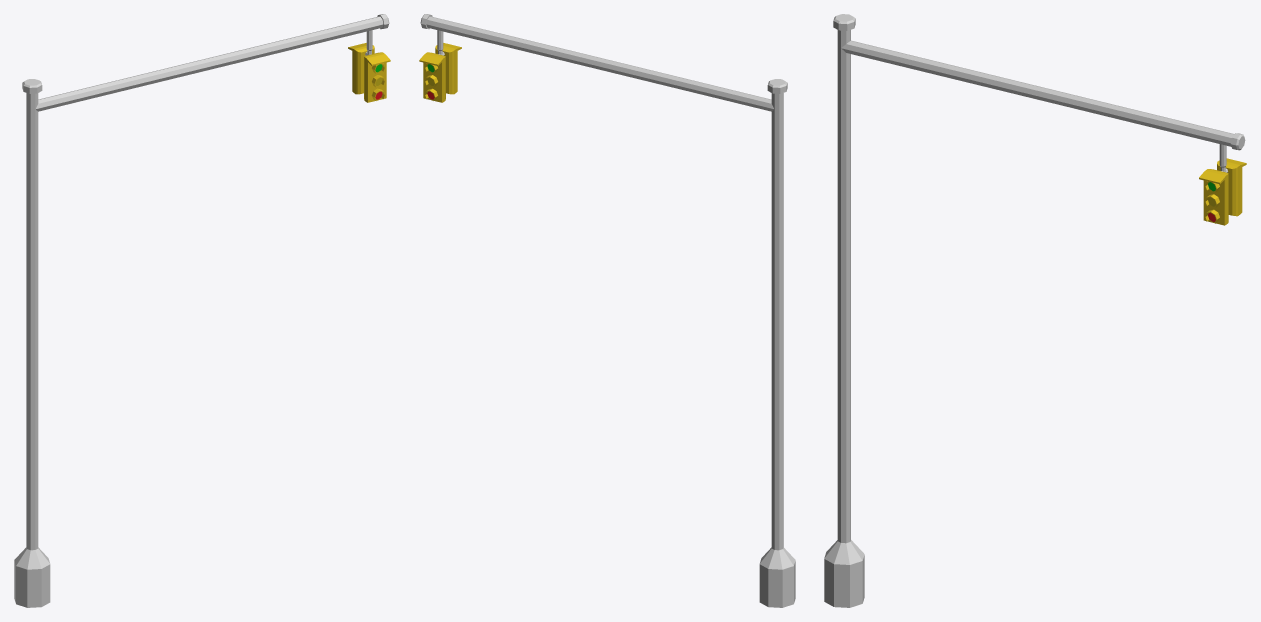
The model's file is LampPost.fbx.
3 renders of one model, left to right at view 1: azimuth 30°, elevation 25°; view 2: azimuth 150°, elevation 25°; view 3: azimuth 330°, elevation 25°, orthographic. The views are drawn at different scales.
Parts seen in each view (by area): view 1: Circle, Circle.001; view 2: Circle, Circle.001; view 3: Circle, Circle.001.
Boxes of the visible parts, x1,y1,x2,y2 form: Circle: [14, 14, 389, 607]; Circle.001: [348, 43, 390, 102]; Circle: [420, 14, 795, 607]; Circle.001: [419, 43, 461, 102]; Circle: [824, 14, 1245, 607]; Circle.001: [1199, 158, 1246, 225].
Bounding box in the file's own units: 4.56 × 0.5109 × 6.1.
